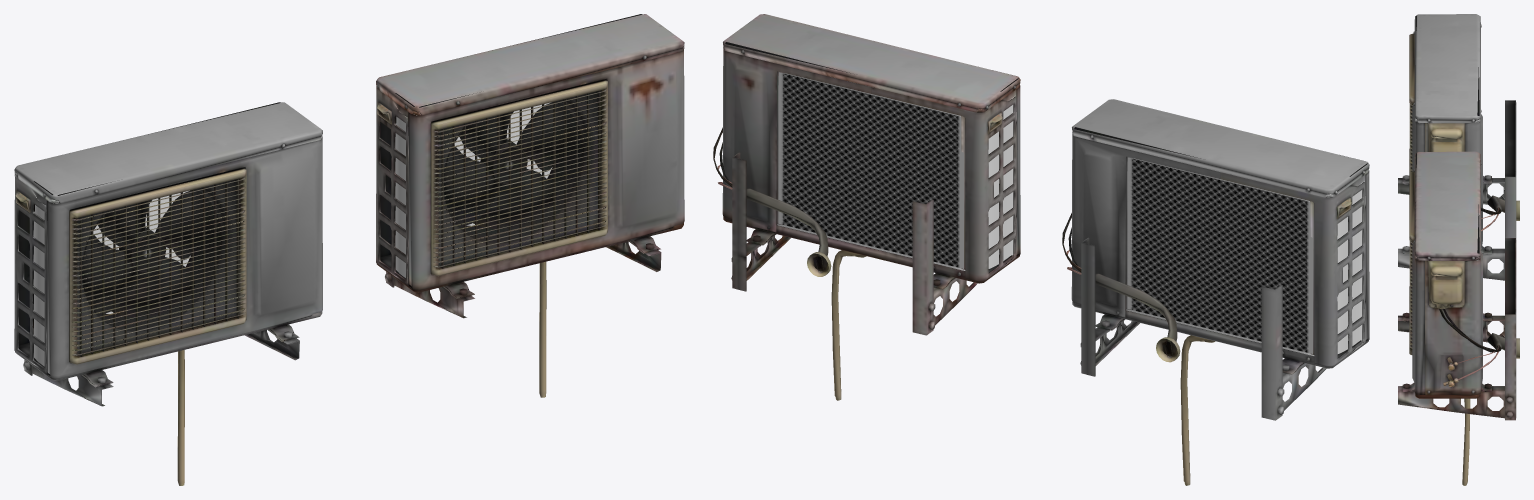
Rendered from exterior_aircon_unit_lod1.glb.
The picture shows the model from 3 angles, left to right: view 1: azimuth 30°, elevation 25°; view 2: azimuth 150°, elevation 25°; view 3: azimuth 270°, elevation 25°; orthographic projection. The views are drawn at different scales.
Visible parts, largest first — view 1: exterior_aircon_unit_rusted, exterior_aircon_unit; view 2: exterior_aircon_unit_rusted, exterior_aircon_unit; view 3: exterior_aircon_unit_rusted, exterior_aircon_unit.
Boxes of the visible parts, x1,y1,x2,y2 form: exterior_aircon_unit_rusted: (376, 14, 684, 397); exterior_aircon_unit: (14, 102, 322, 485); exterior_aircon_unit_rusted: (713, 14, 1020, 400); exterior_aircon_unit: (1062, 99, 1369, 485); exterior_aircon_unit_rusted: (1398, 151, 1519, 485); exterior_aircon_unit: (1398, 14, 1519, 280).
Bounding box in the file's own units: 1.8 × 0.9279 × 0.3742.
Materials: 4 (4 with a texture image).
